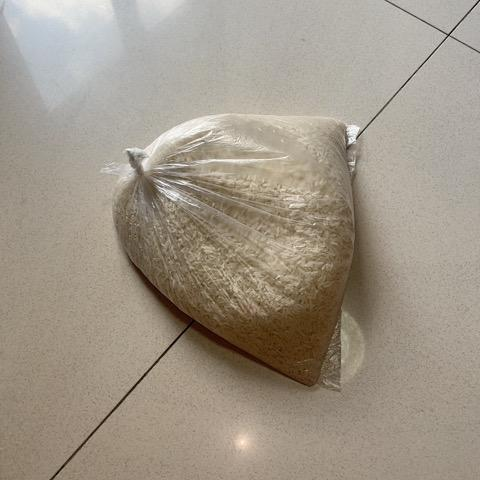rice: (94, 107, 367, 396)
